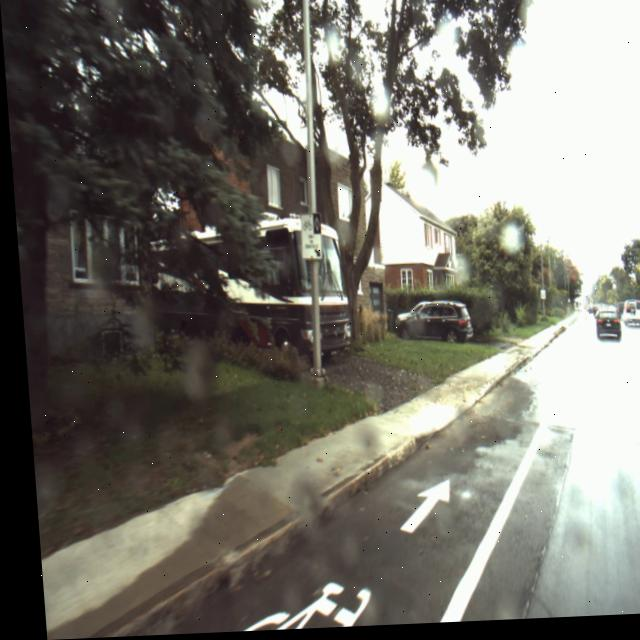car: (390, 304, 469, 349), (590, 314, 616, 347), (616, 307, 640, 337)
